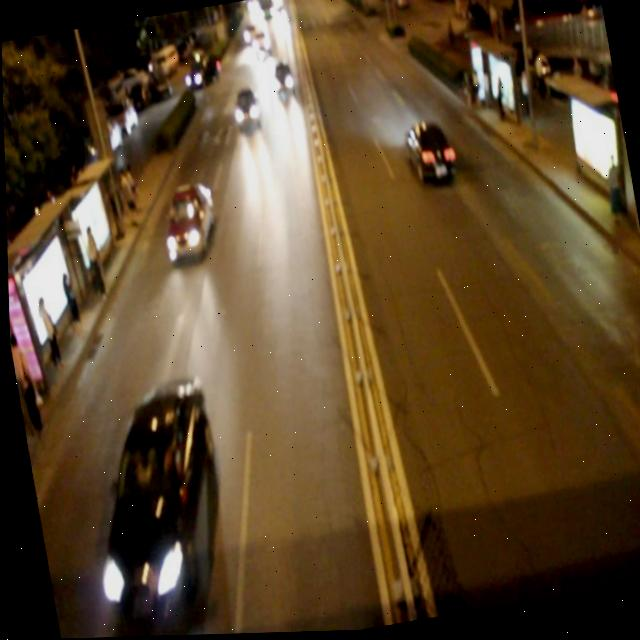car: (67, 376, 237, 631), (157, 182, 220, 264), (399, 119, 458, 192), (228, 86, 262, 131), (269, 62, 294, 99)
